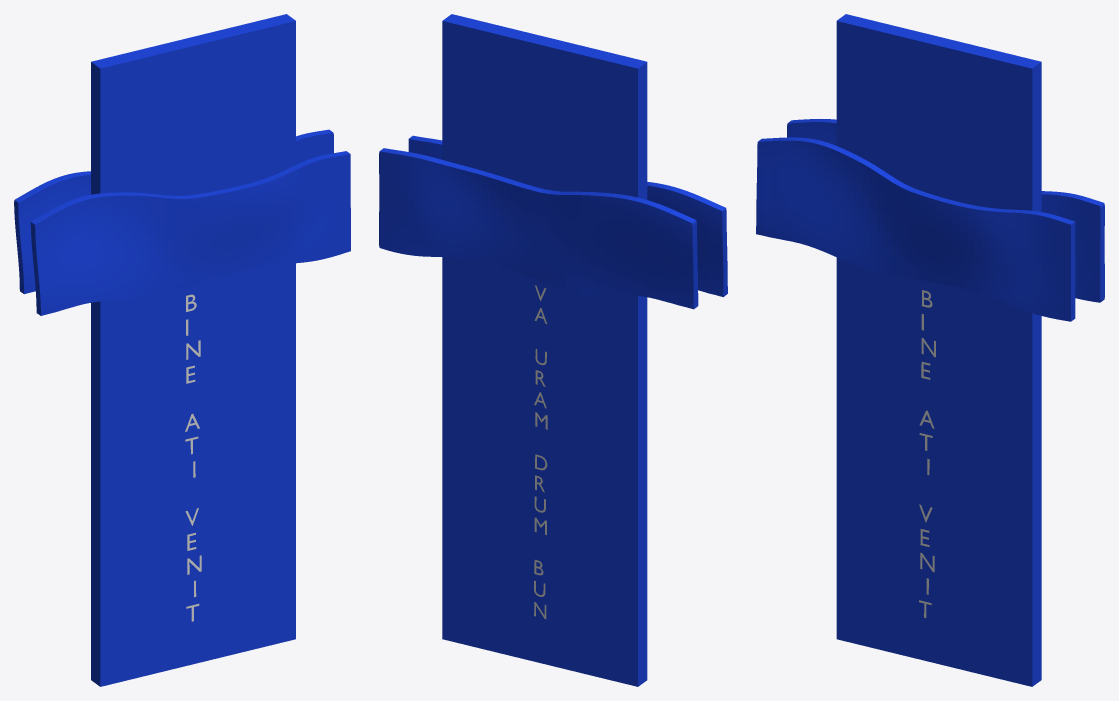
Rendered from SemnIntrareInSat.fbx.
3 renders of one model, left to right at view 1: azimuth 30°, elevation 25°; view 2: azimuth 150°, elevation 25°; view 3: azimuth 330°, elevation 25°, orthographic.
Visible parts, largest first — view 1: Cube, Cube.001, Cube.002, B; view 2: Cube, Cube.002, Cube.001, B.001; view 3: Cube, Cube.001, Cube.002, B.
Part boxes in pixels (x1,y1,x2,y2): Cube: (91,14,295,686); Cube.001: (30,151,350,315); Cube.002: (14,129,333,294); B: (185,294,201,621); Cube: (442,14,647,686); Cube.002: (379,148,698,309); Cube.001: (408,135,727,297); B.001: (534,285,547,619); Cube: (836,14,1041,686); Cube.001: (756,137,1075,321); Cube.002: (787,119,1104,302); B: (919,290,935,617).
Bounding box in the file's own units: 328 × 604 × 63.41.
